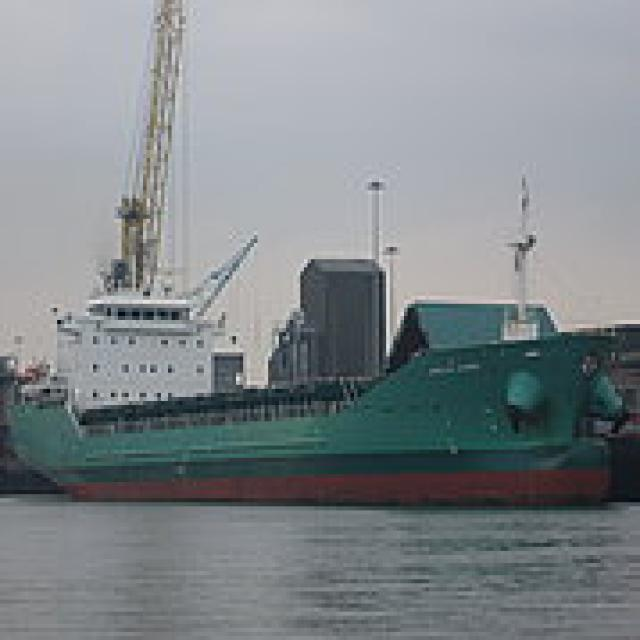Cargo: (0, 279, 619, 506)
